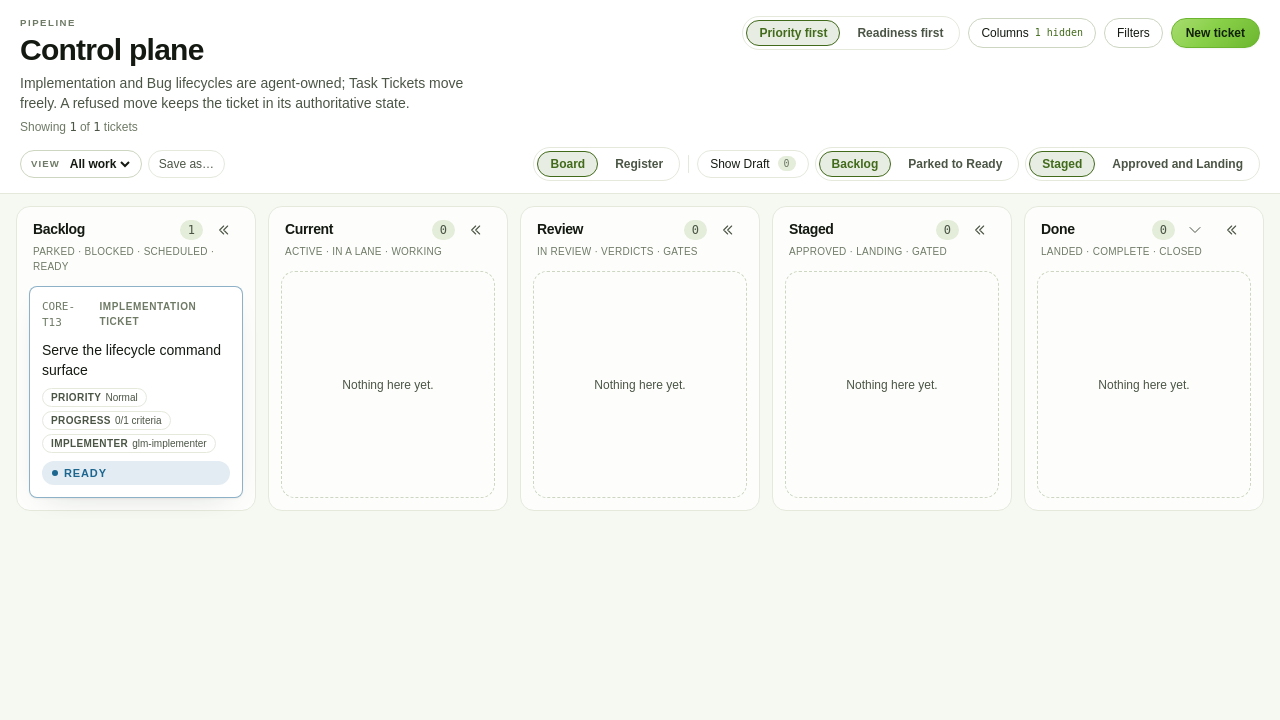
Test case: the drawer footer actions › a refused Park reports the core message and leaves the state alone
Click the button with test id "open-ticket-8" at (136, 360), box left=42, top=340, right=230, bottom=380
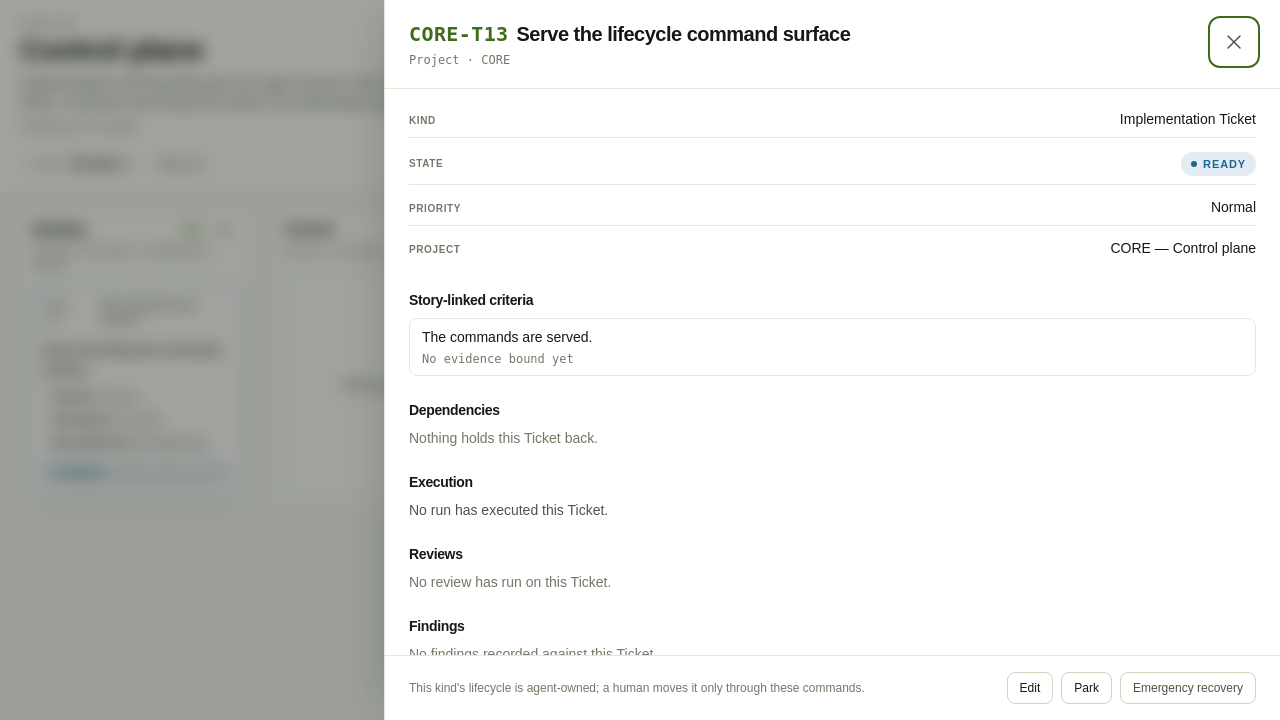
Click the button "Park" at (1087, 688), box left=1061, top=672, right=1112, bottom=704
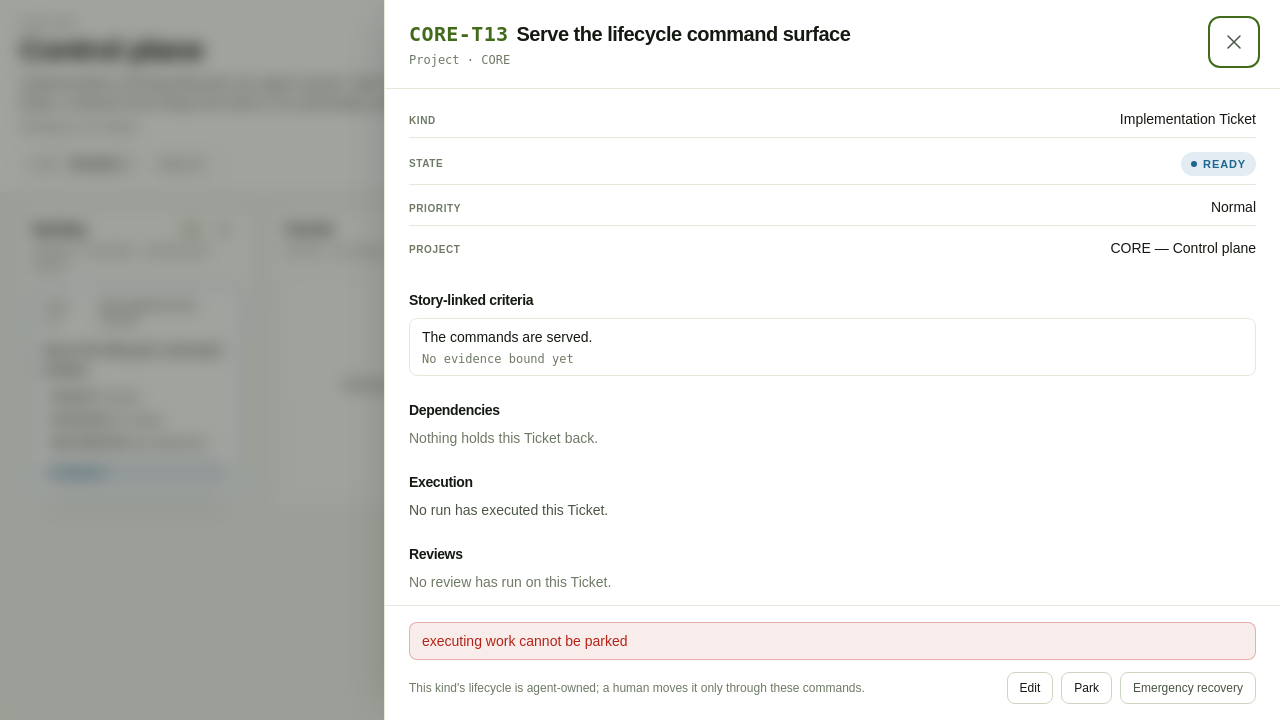
Check: the element with test id "drawer-state" reads "Ready", box left=1203, top=158, right=1246, bottom=170
Check: the message with test id "drawer-action-error" reads "executing work cannot be parked", box left=422, top=633, right=628, bottom=649
